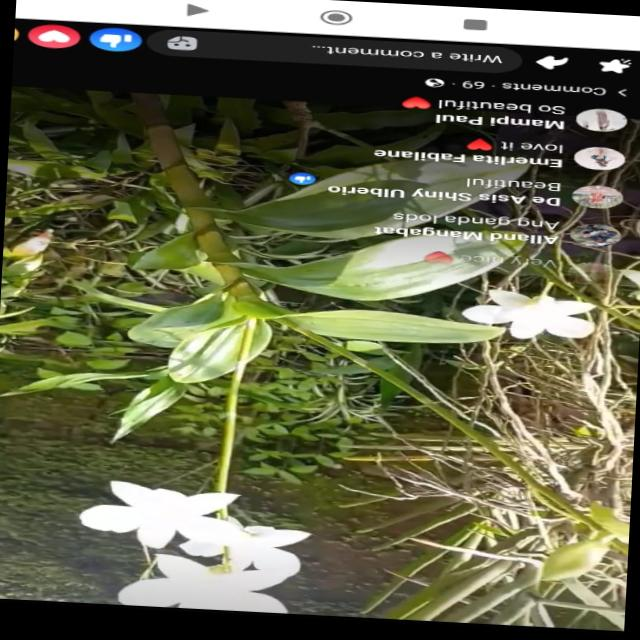flower: (81, 481, 236, 548), (119, 555, 287, 613), (181, 517, 310, 577), (469, 291, 588, 339)
leaf: (232, 160, 527, 239), (246, 236, 512, 300), (277, 310, 495, 345), (132, 293, 222, 340), (131, 233, 198, 270)
plant: (0, 85, 640, 623)
stem: (132, 94, 235, 262), (217, 264, 261, 302)
